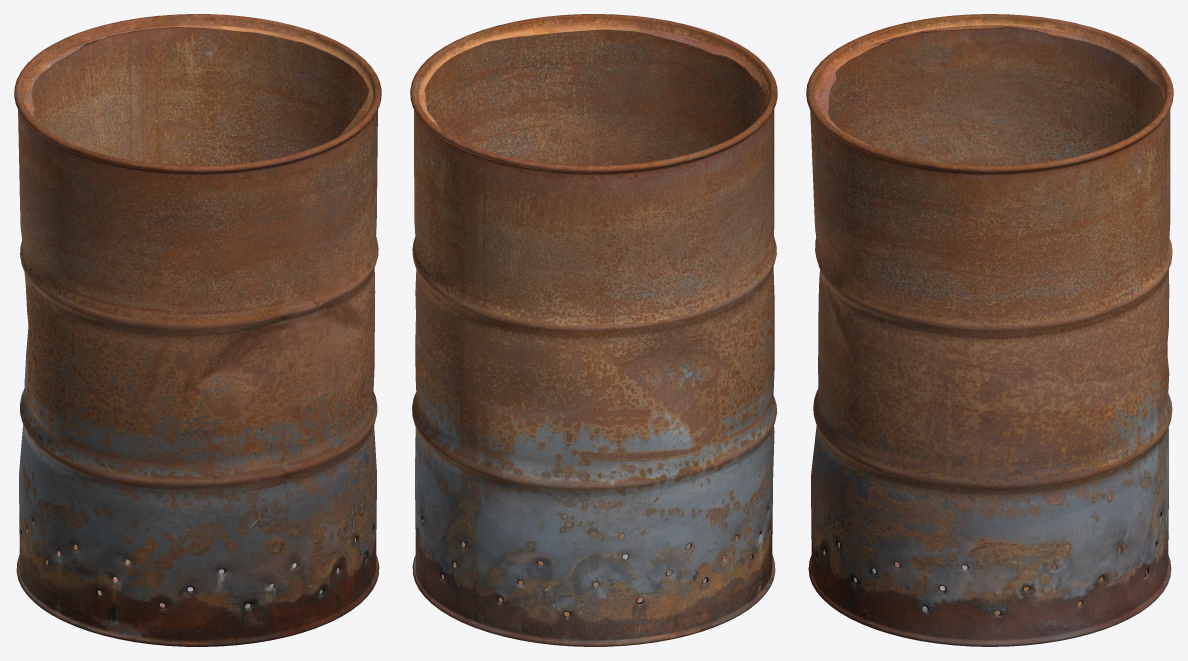
File: stove.glb
3 views of the same model, side by side, from view 1: azimuth 30°, elevation 25°; view 2: azimuth 150°, elevation 25°; view 3: azimuth 270°, elevation 25° (orthographic).
Parts seen in each view (by area): view 1: barrel_stove; view 2: barrel_stove; view 3: barrel_stove.
Part boxes in pixels (<box>): barrel_stove: <box>14,14,381,646</box>; barrel_stove: <box>410,14,777,646</box>; barrel_stove: <box>806,14,1173,646</box>.
Bounding box in the file's own units: 0.5926 × 0.8556 × 0.5926.
Materials: 1 (1 with a texture image).
